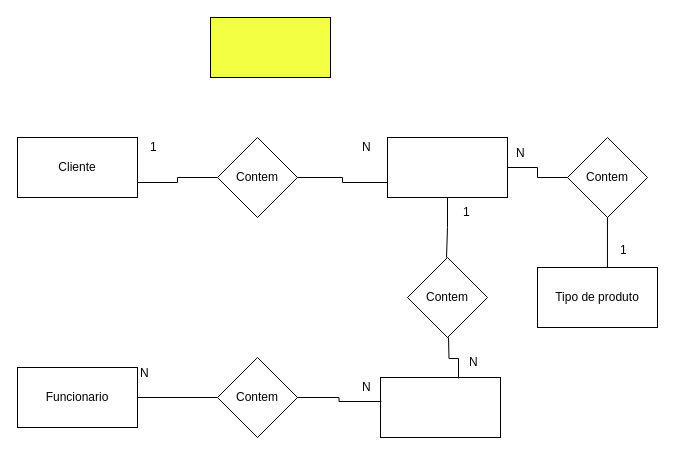
Image size: 675x455. Some labels were removed from this diagram. Here are the shapes that lost their labels. From the top down, the centre of each, then its label:
At (x=270, y=47): "Conceitual".
At (x=447, y=167): "Produto".
At (x=440, y=407): "Conserto".
